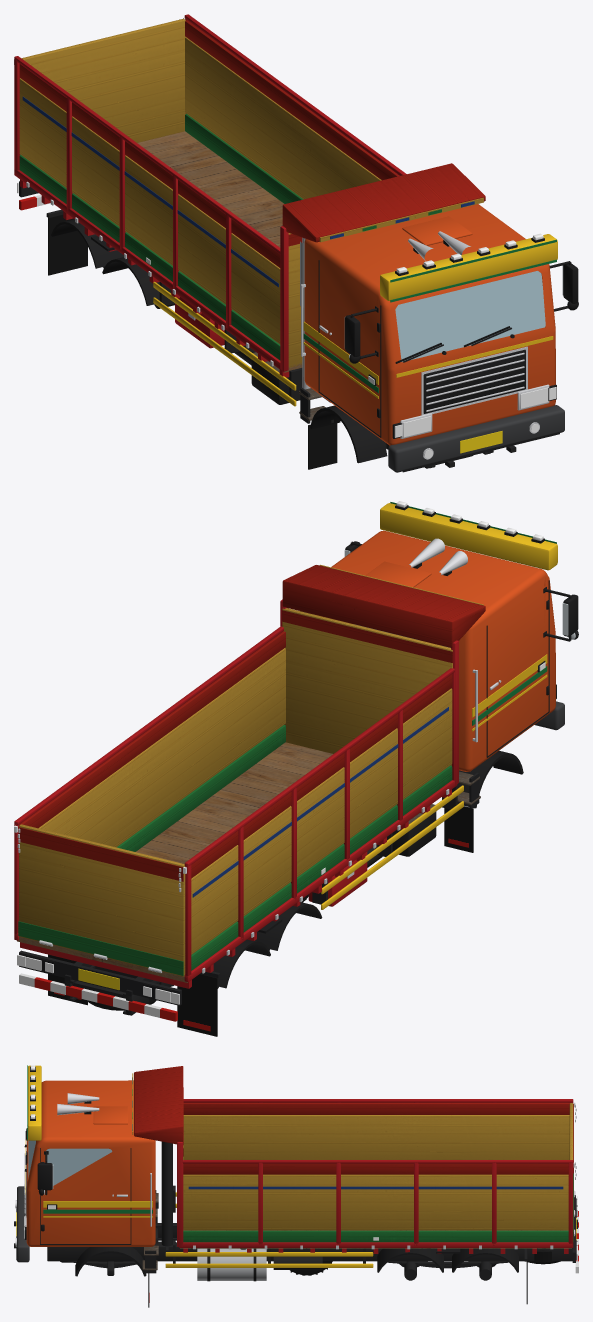
File: indian_lorry.gltf
3 renders of one model, top to bottom at view 1: azimuth 30°, elevation 25°; view 2: azimuth 150°, elevation 25°; view 3: azimuth 270°, elevation 25°, orthographic. The views are drawn at different scales.
Visible parts, largest first — view 1: Body, Glass, Lamp_head; view 2: Body; view 3: Body, Glass.
Part boxes in pixels (x1,y1,x2,y2): Body: (14, 14, 578, 472); Glass: (395, 271, 545, 361); Lamp_head: (403, 387, 548, 437); Body: (14, 502, 578, 1036); Body: (14, 1065, 578, 1307); Glass: (28, 1140, 112, 1185).
Size of the model in its own units: 3.36 by 3.58 by 9.8.
Materials: 31 (6 with a texture image).
